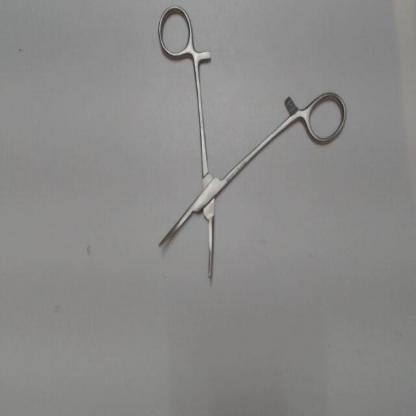Crile Artery Forceps: (150, 1, 350, 286)
